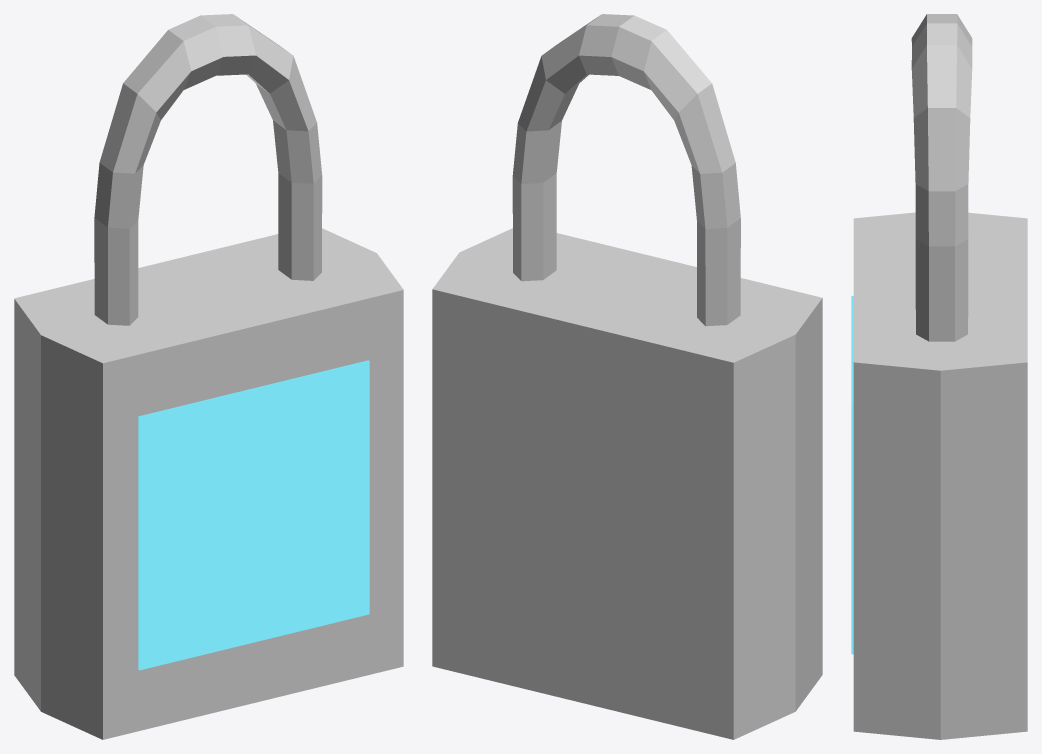
The model's file is Lock.glb.
3 views of the same model, side by side, from view 1: azimuth 30°, elevation 25°; view 2: azimuth 150°, elevation 25°; view 3: azimuth 270°, elevation 25° (orthographic). The views are drawn at different scales.
Visible parts, largest first — view 1: lock; view 2: lock; view 3: lock.
Part boxes in pixels (x1=…): lock: x1=14, y1=14, x2=403, y2=739; lock: x1=432, y1=14, x2=822, y2=739; lock: x1=851, y1=14, x2=1027, y2=739.
Size of the model in its own units: 0.2226 by 0.4111 by 0.1032.
